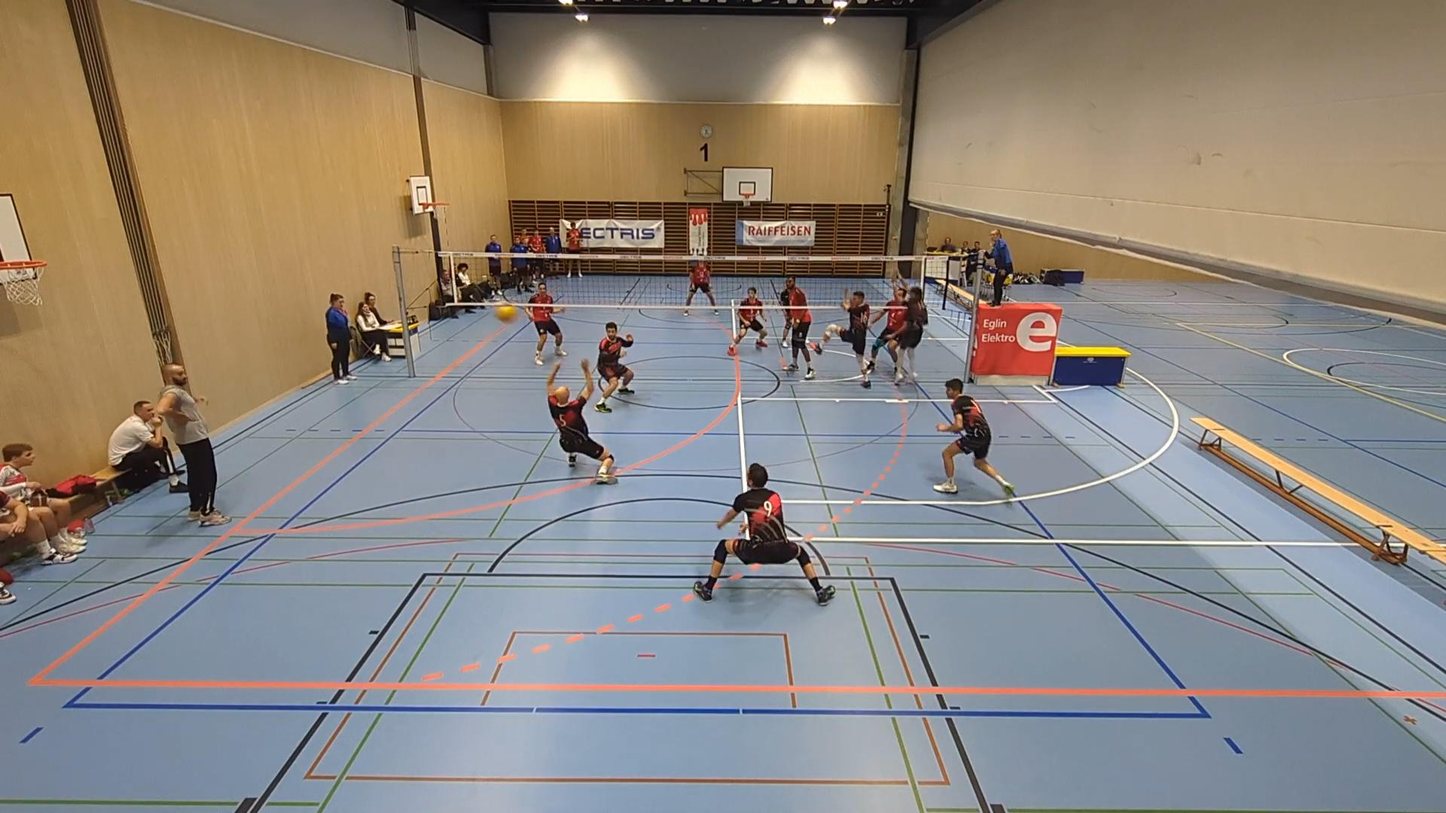difesa: (550, 363, 616, 489)
